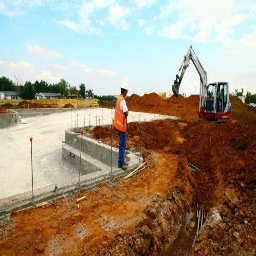person: (110, 80, 135, 177)
vest: (114, 95, 129, 132)
